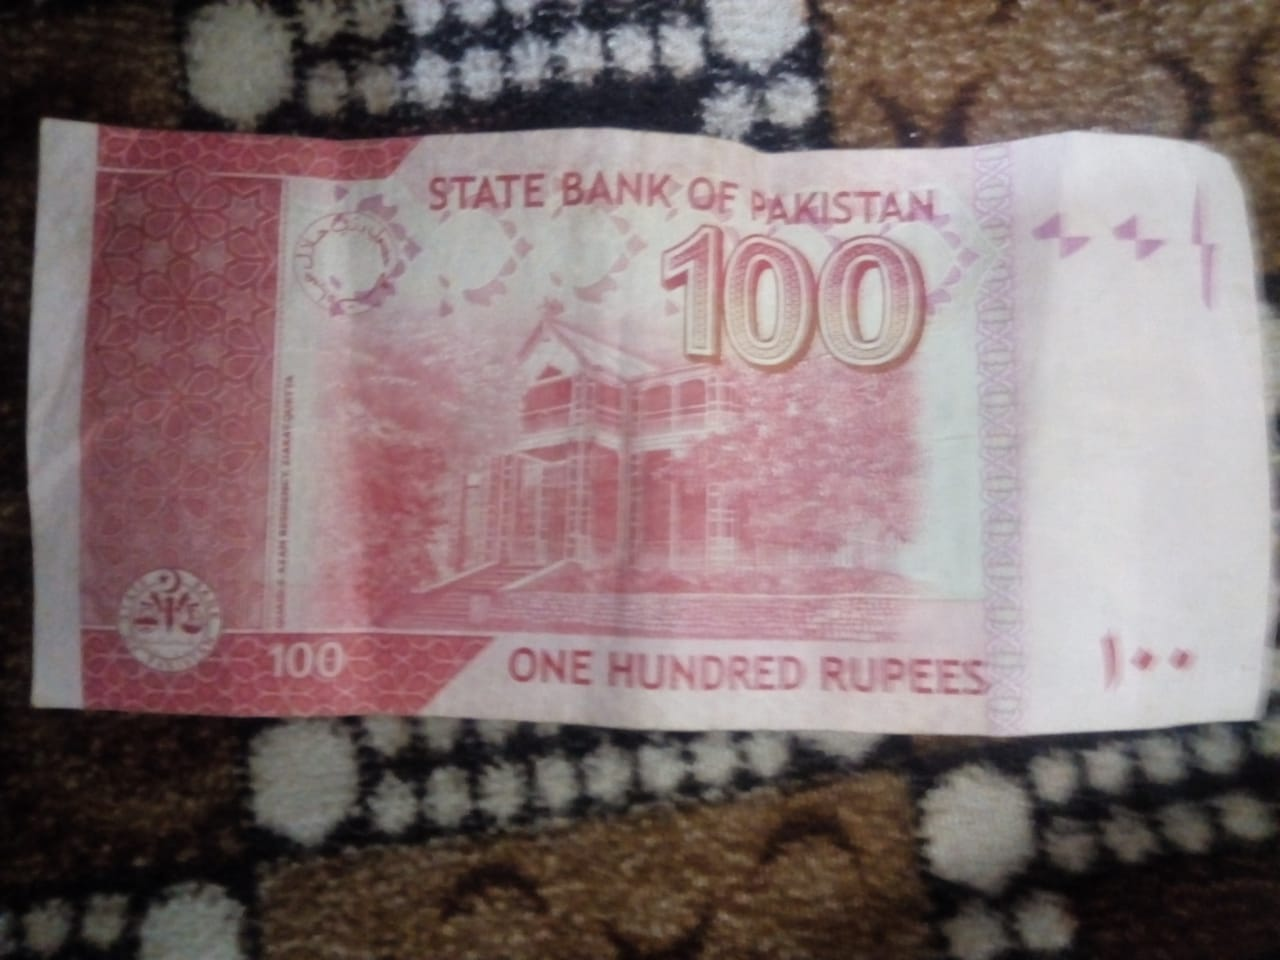100 rupee: (25, 121, 1280, 729)
